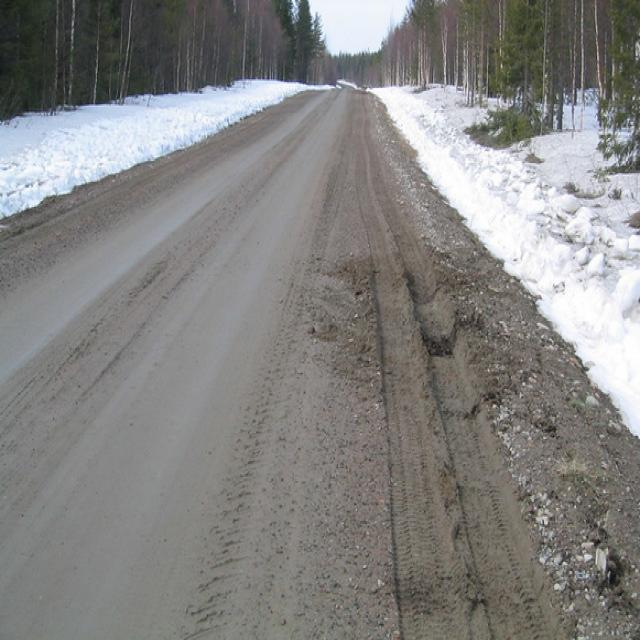Pothole: (312, 112, 532, 640)
